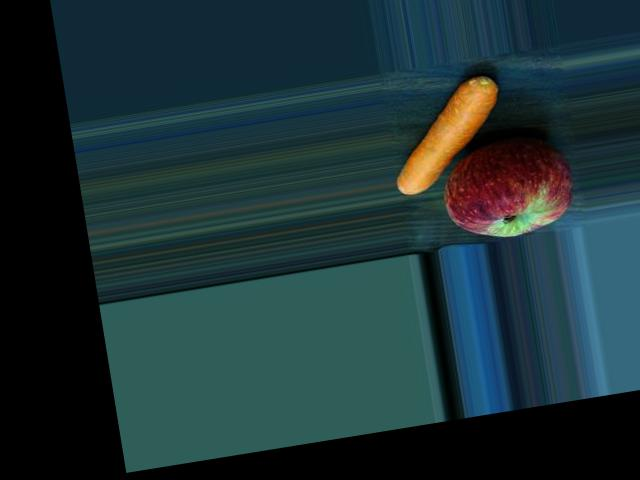carrot: (381, 71, 512, 197)
